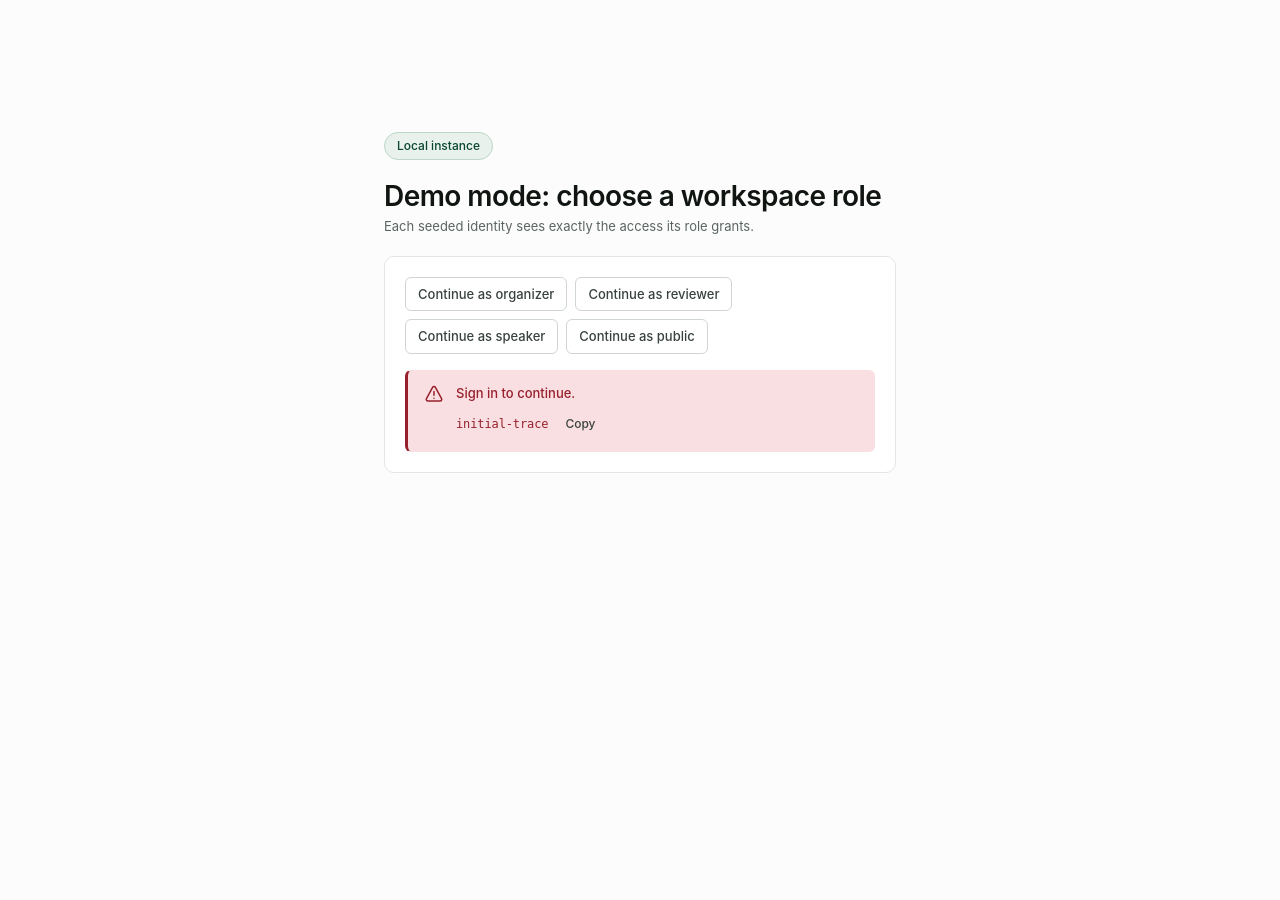
Scenario: App › switches identities and renders role-limited navigation
Expected: the text "initial-trace" is shown, [456,416,548,434]
Click the button "Continue as reviewer" at (654, 294), box [575,277,732,311]
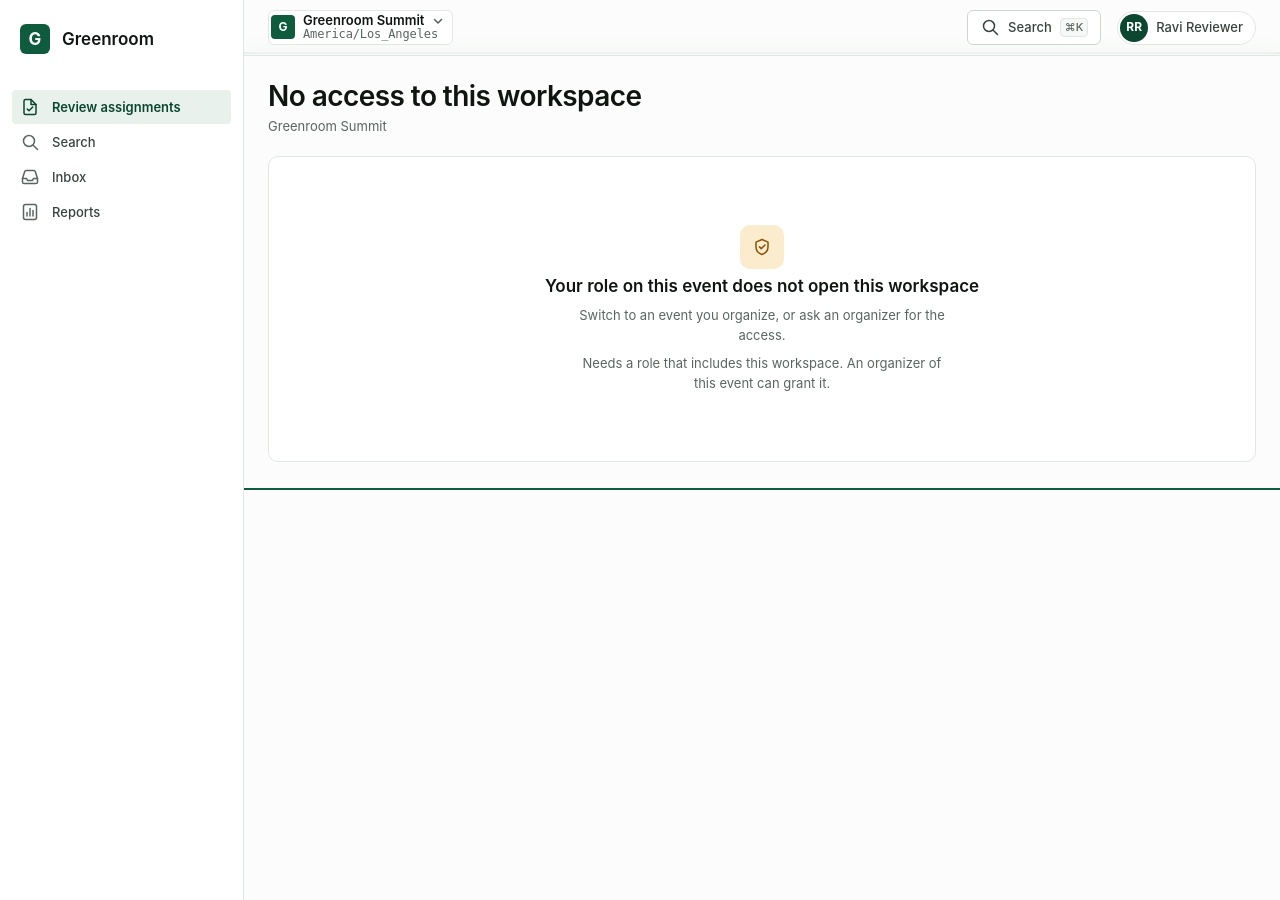
Expected: the link "Review assignments" is shown, [12,90,231,124]
